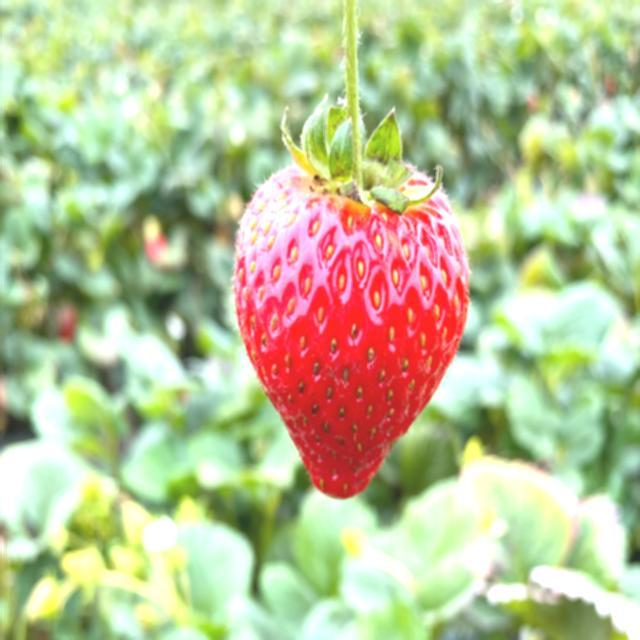strawberry: (234, 0, 469, 497)
